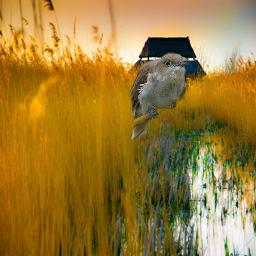Cuckoo: (128, 52, 190, 141)
